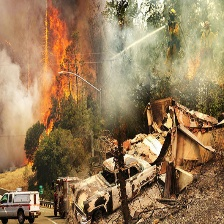fire: (37, 6, 82, 136), (24, 151, 36, 169)
smoke: (1, 1, 54, 147)
